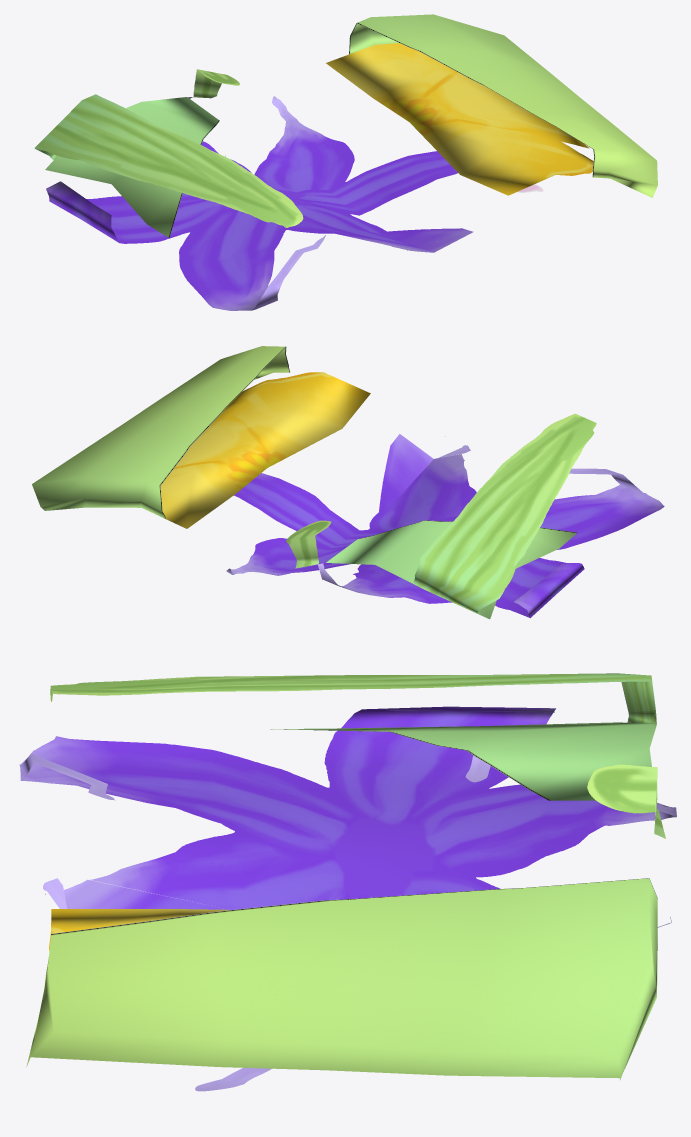
File: book.fbx
3 views of the same model, one above another, from view 1: azimuth 30°, elevation 25°; view 2: azimuth 150°, elevation 25°; view 3: azimuth 270°, elevation 25° (orthographic). The views are drawn at different scales.
Parts seen in each view (by area): view 1: Book; view 2: Book; view 3: Book.
Part boxes in pixels (left/top/right/bottom): Book: left=34, top=14, right=657, bottom=310; Book: left=32, top=346, right=664, bottom=619; Book: left=19, top=673, right=676, bottom=1091.
Bounding box in the file's own units: 95.67 × 18.43 × 67.74.
